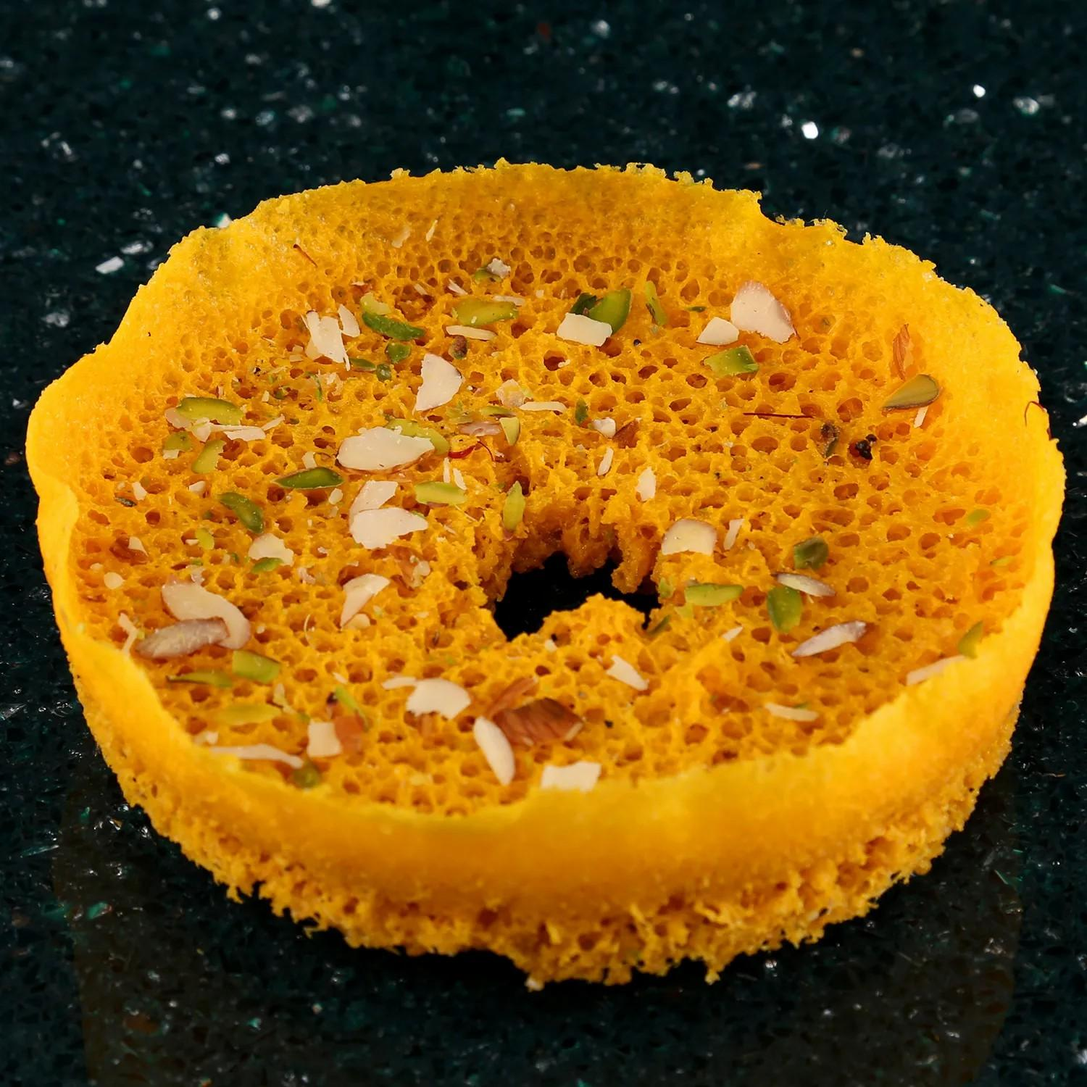Ghevar: (24, 160, 1075, 989)
